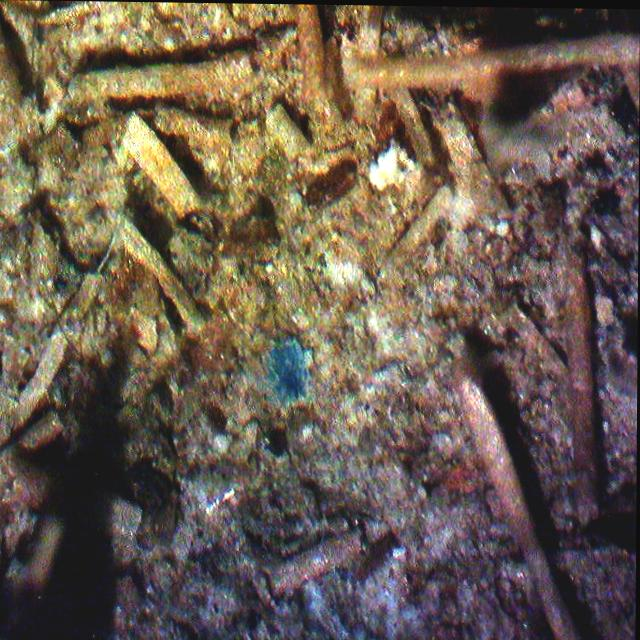microplastic: (262, 332, 310, 408)
